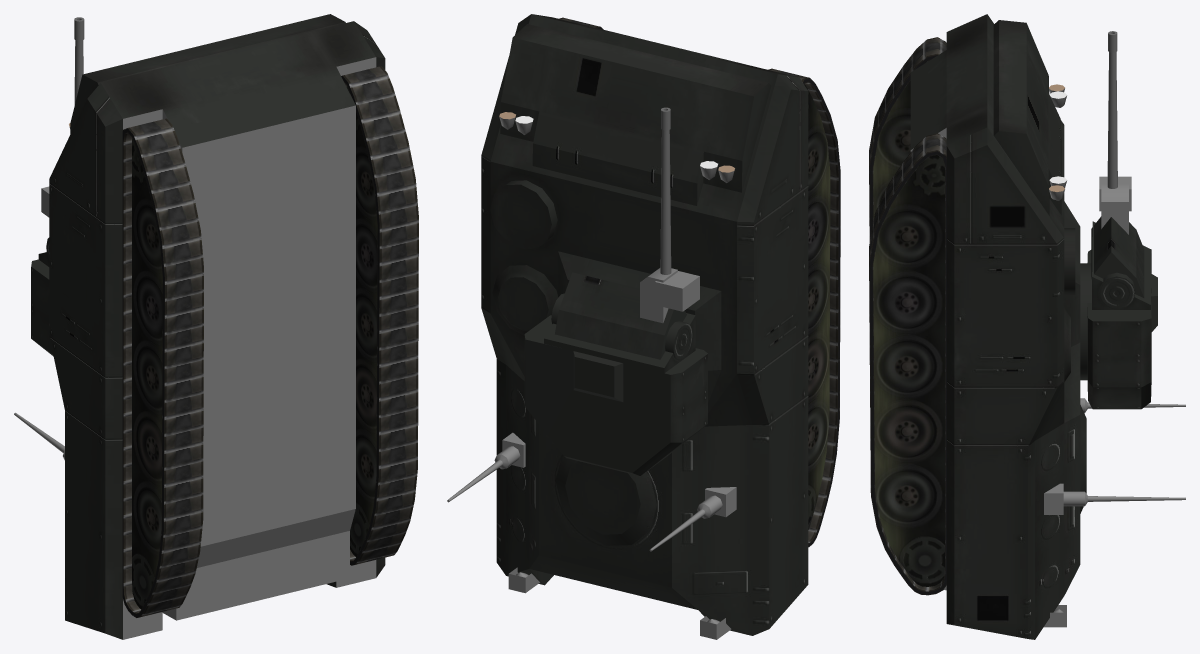
The model's file is AIFV.glb.
3 renders of one model, left to right at view 1: azimuth 30°, elevation 25°; view 2: azimuth 150°, elevation 25°; view 3: azimuth 270°, elevation 25°, orthographic. The views are drawn at different scales.
Visible parts, largest first — view 1: e8ops7khw8te; view 2: e8ops7khw8te; view 3: e8ops7khw8te.
Part boxes in pixels (x1=…): e8ops7khw8te: x1=14, y1=14, x2=418, y2=639; e8ops7khw8te: x1=447, y1=14, x2=840, y2=639; e8ops7khw8te: x1=869, y1=14, x2=1185, y2=639.
Size of the model in its own units: 2.71 by 5.18 by 2.89.
11 materials, 5 textured.
